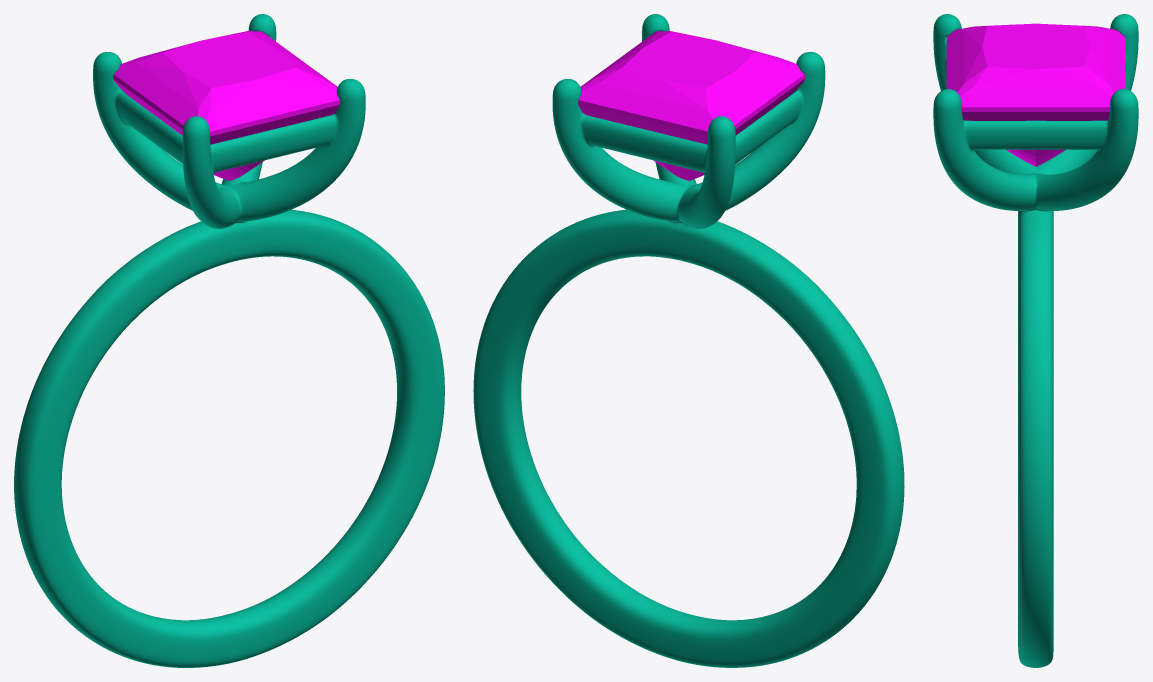
File: BE17651_PR_200ct_RENDER.glb
The picture shows the model from 3 angles, left to right: view 1: azimuth 30°, elevation 25°; view 2: azimuth 150°, elevation 25°; view 3: azimuth 270°, elevation 25°; orthographic projection.
Parts seen in each view (by area): view 1: Metal 01, CS_Diamond_Princess; view 2: Metal 01, CS_Diamond_Princess; view 3: Metal 01, CS_Diamond_Princess.
Boxes of the visible parts, box(x1,y1,x2,y2) form: Metal 01: box(14, 14, 444, 667); CS_Diamond_Princess: box(113, 31, 339, 180); Metal 01: box(473, 14, 904, 667); CS_Diamond_Princess: box(578, 31, 804, 180); Metal 01: box(933, 14, 1138, 667); CS_Diamond_Princess: box(946, 23, 1125, 166).
Bounding box in the file's own units: 20.49 × 27.72 × 8.61.
